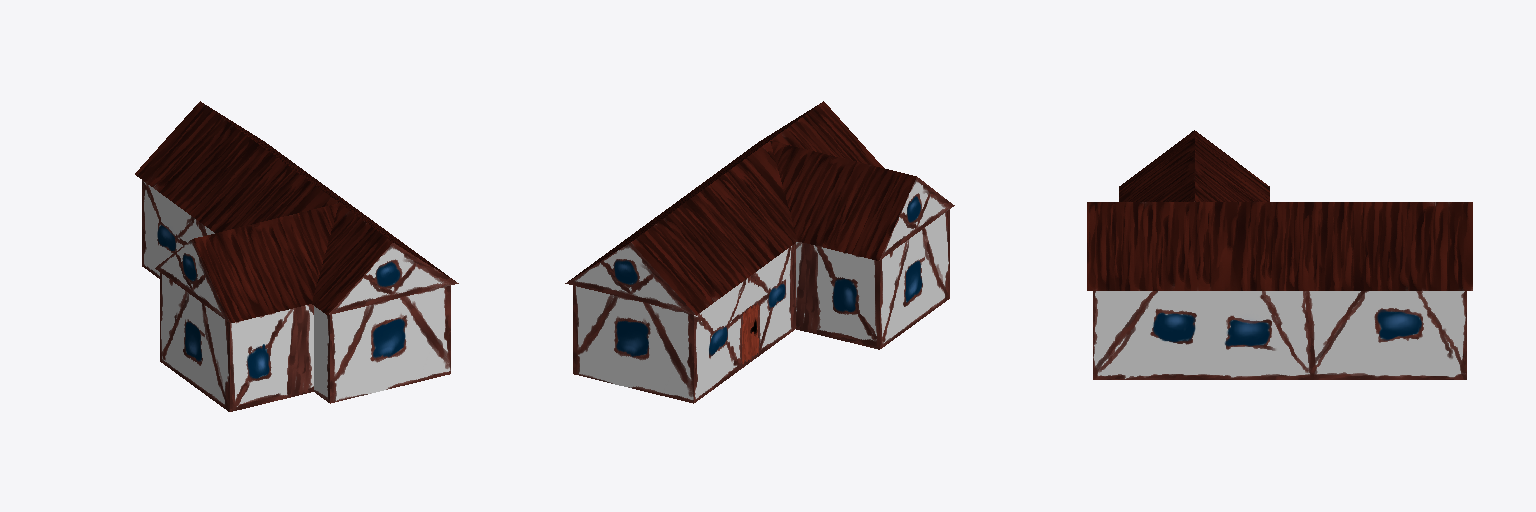
The picture shows the model from 3 angles: view 1: azimuth 30°, elevation 25°; view 2: azimuth 150°, elevation 25°; view 3: azimuth 270°, elevation 25°; orthographic projection.
Visible parts, largest first — view 1: Cube_Cube.001; view 2: Cube_Cube.001; view 3: Cube_Cube.001.
Boxes of the visible parts, x1=… form: Cube_Cube.001: x1=135, y1=101, x2=458, y2=411; Cube_Cube.001: x1=565, y1=101, x2=954, y2=403; Cube_Cube.001: x1=1087, y1=130, x2=1472, y2=379.
Size of the model in its own units: 9.59 by 6.4 by 15.09.
Materials: 1 (1 with a texture image).